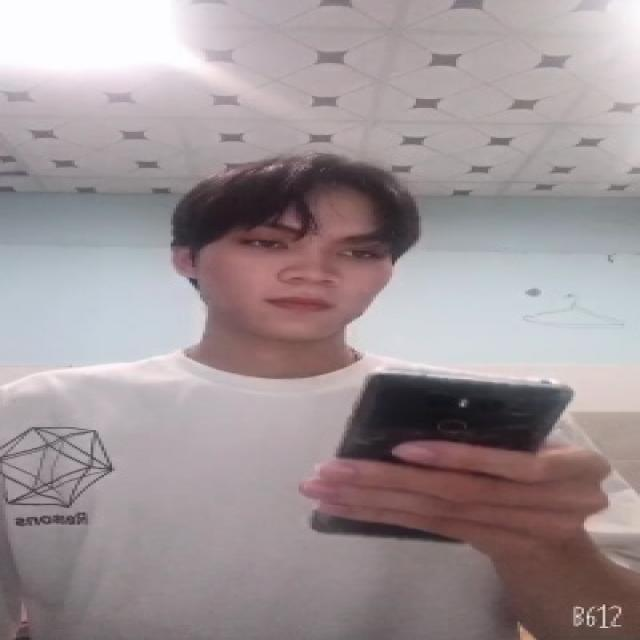Phone: (308, 366, 576, 544)
